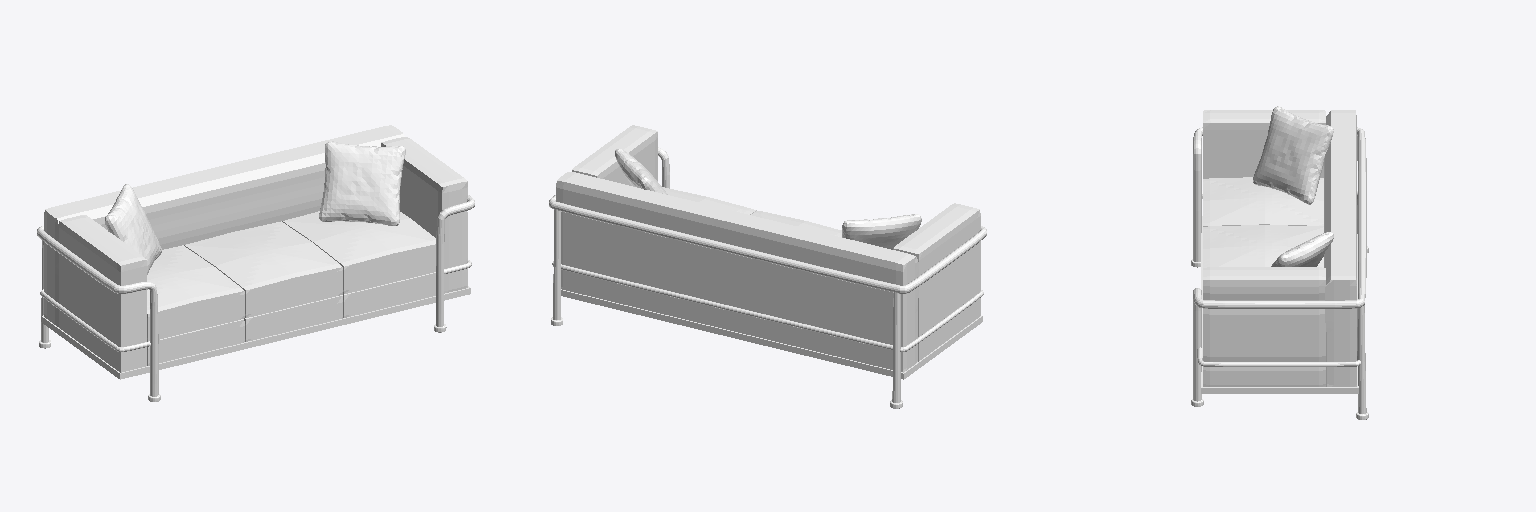
File: sofa2.obj
3 renders of one model, left to right at view 1: azimuth 30°, elevation 25°; view 2: azimuth 150°, elevation 25°; view 3: azimuth 270°, elevation 25°, orthographic.
Parts seen in each view (by area): view 1: sofa2; view 2: sofa2; view 3: sofa2.
Part boxes in pixels (bbox=[...]): sofa2: bbox=[37, 125, 474, 401]; sofa2: bbox=[549, 125, 986, 408]; sofa2: bbox=[1191, 106, 1368, 419].
Size of the model in its own units: 3.21 by 1.33 by 1.36.